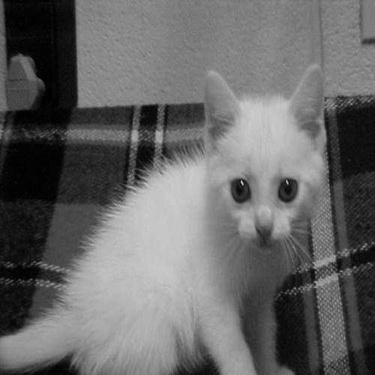cat: (17, 68, 350, 367)
